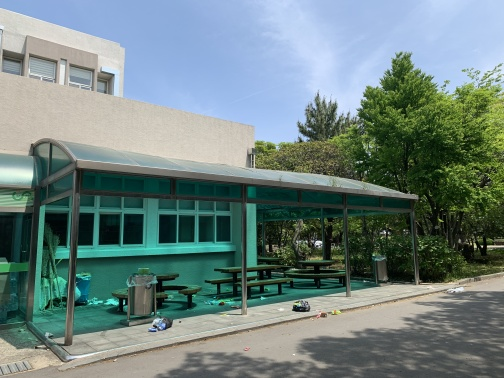Ara Hall: (1, 118, 425, 344)
